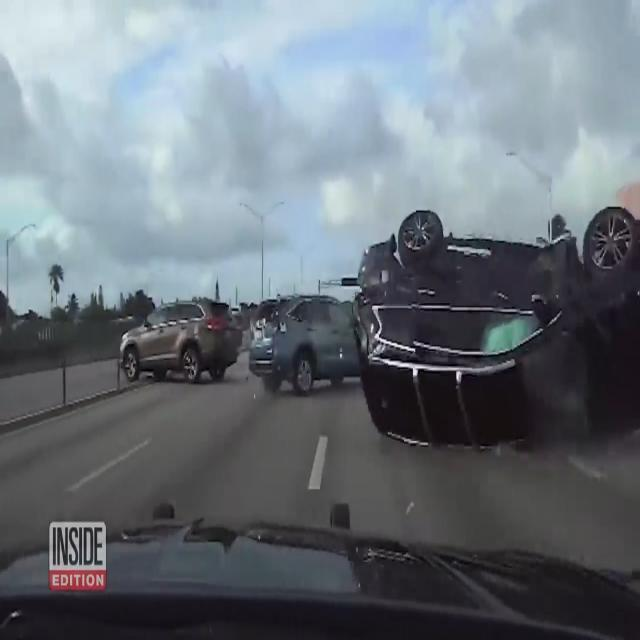accident: (351, 202, 640, 442)
